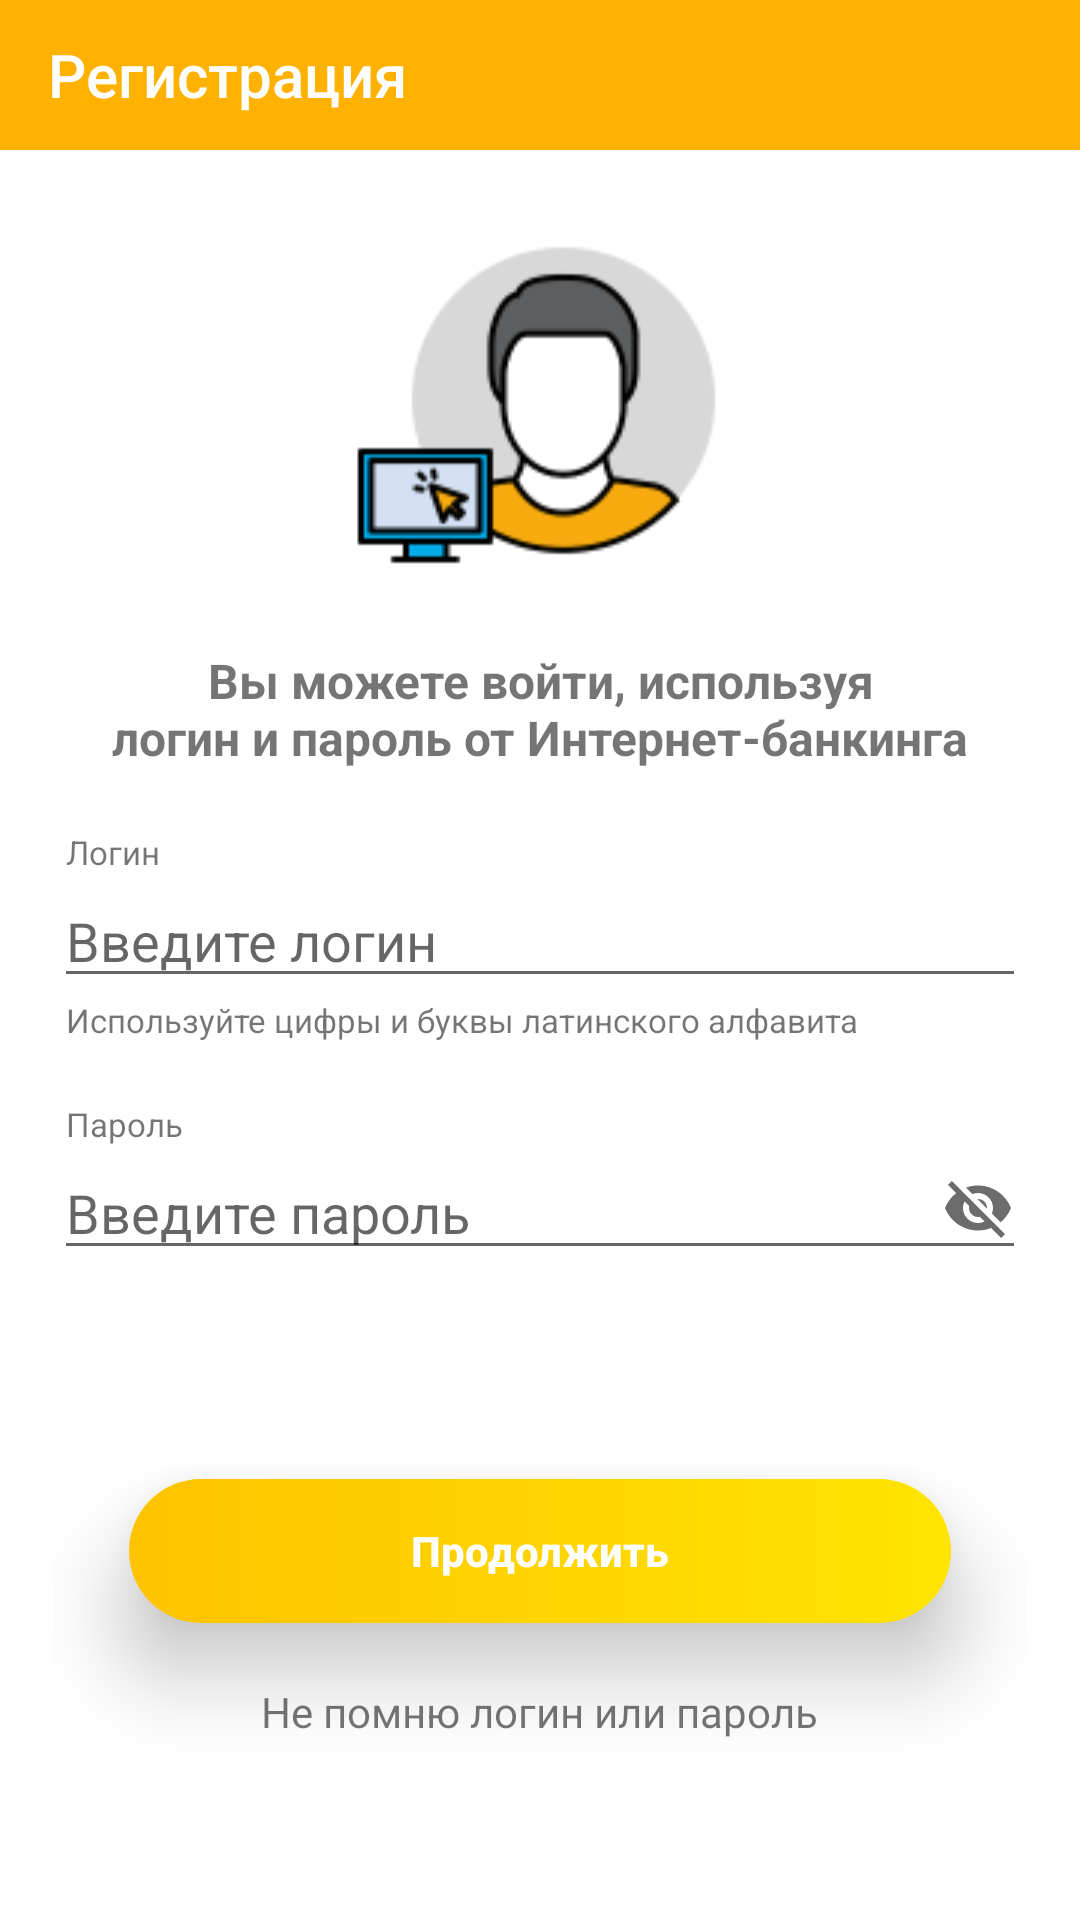

Icons on this 1080 × 1920 Android screen, each with the point to tap as [x,y]:
visibility off: [978,1209]
